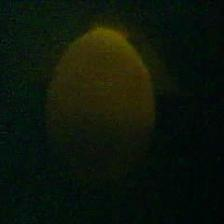fertile: (44, 27, 156, 192)
